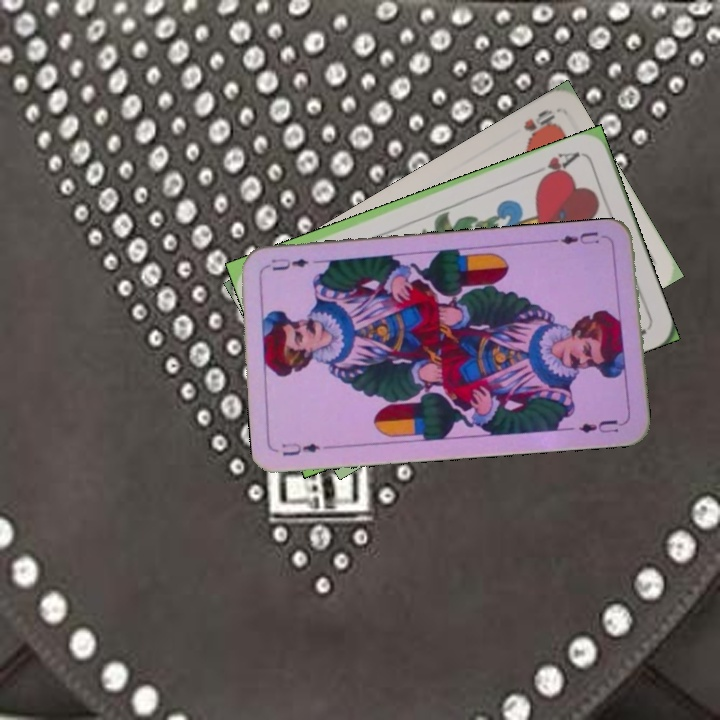EU: (278, 438, 322, 459), (557, 227, 601, 247)
HA: (527, 147, 583, 184)
HO: (519, 105, 558, 142)
